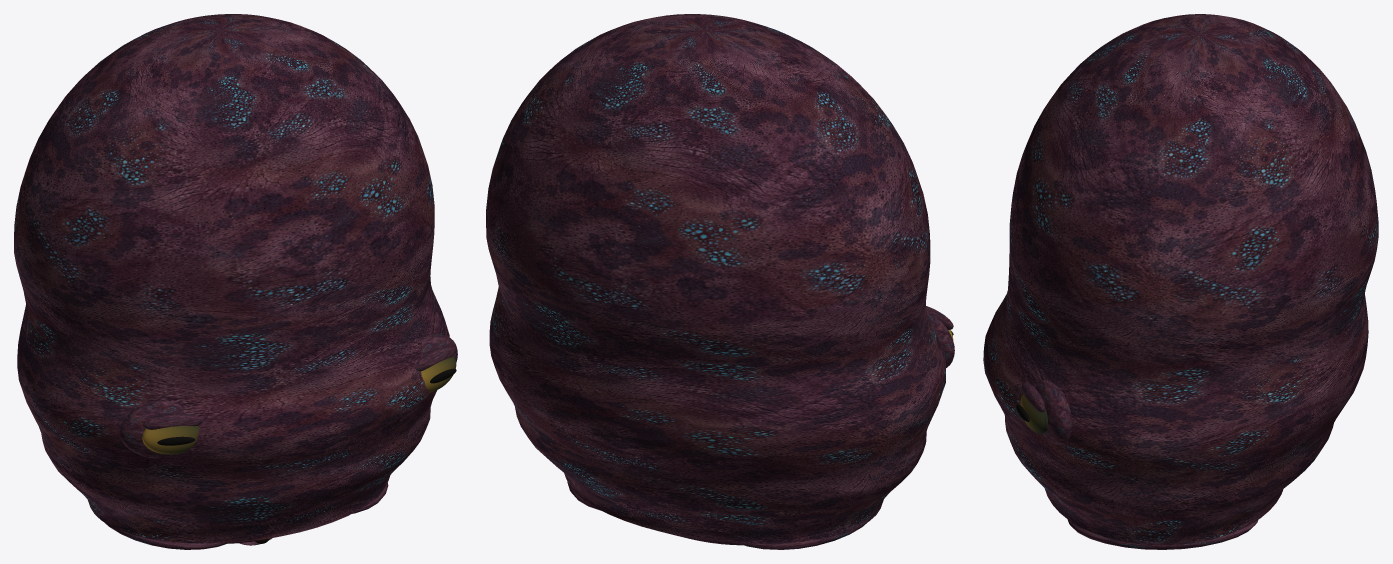
Rendered from kraken_final_head.obj.
The picture shows the model from 3 angles, left to right: view 1: azimuth 30°, elevation 25°; view 2: azimuth 150°, elevation 25°; view 3: azimuth 270°, elevation 25°; orthographic projection. The views are drawn at different scales.
Parts seen in each view (by area): view 1: FinalHead_Shell, FinalHead_Left_EyeSocket, FinalHead_Left_Eye, FinalHead_Left_Web, FinalHead_Left_EyeSocket.001, FinalHead_Right_Eye, FinalHead_Right_EyeSocket.001, FinalHead_Right_EyeSocket; view 2: FinalHead_Shell, FinalHead_Left_Web, FinalHead_Left_EyeSocket; view 3: FinalHead_Shell, FinalHead_Right_EyeSocket, FinalHead_Right_Web, FinalHead_Right_Eye.
Part boxes in pixels (box(x1,y1,x2,y2)): FinalHead_Shell: box(14, 14, 449, 543); FinalHead_Left_EyeSocket: box(120, 400, 183, 458); FinalHead_Left_Eye: box(142, 426, 198, 454); FinalHead_Left_Web: box(104, 522, 228, 549); FinalHead_Left_EyeSocket.001: box(143, 414, 204, 429); FinalHead_Right_Eye: box(421, 356, 456, 392); FinalHead_Right_EyeSocket.001: box(415, 346, 456, 371); FinalHead_Right_EyeSocket: box(421, 333, 457, 361); FinalHead_Shell: box(486, 14, 945, 545); FinalHead_Left_Web: box(739, 522, 867, 549); FinalHead_Left_EyeSocket: box(926, 309, 954, 367); FinalHead_Shell: box(983, 14, 1378, 545); FinalHead_Right_EyeSocket: box(1035, 380, 1072, 444); FinalHead_Right_Web: box(1067, 519, 1258, 549); FinalHead_Right_Eye: box(1020, 394, 1047, 433).
Bounding box in the file's own units: 7.33 × 8.8 × 6.46.
